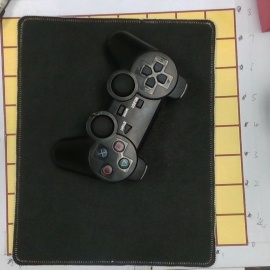remote: (52, 30, 189, 183)
